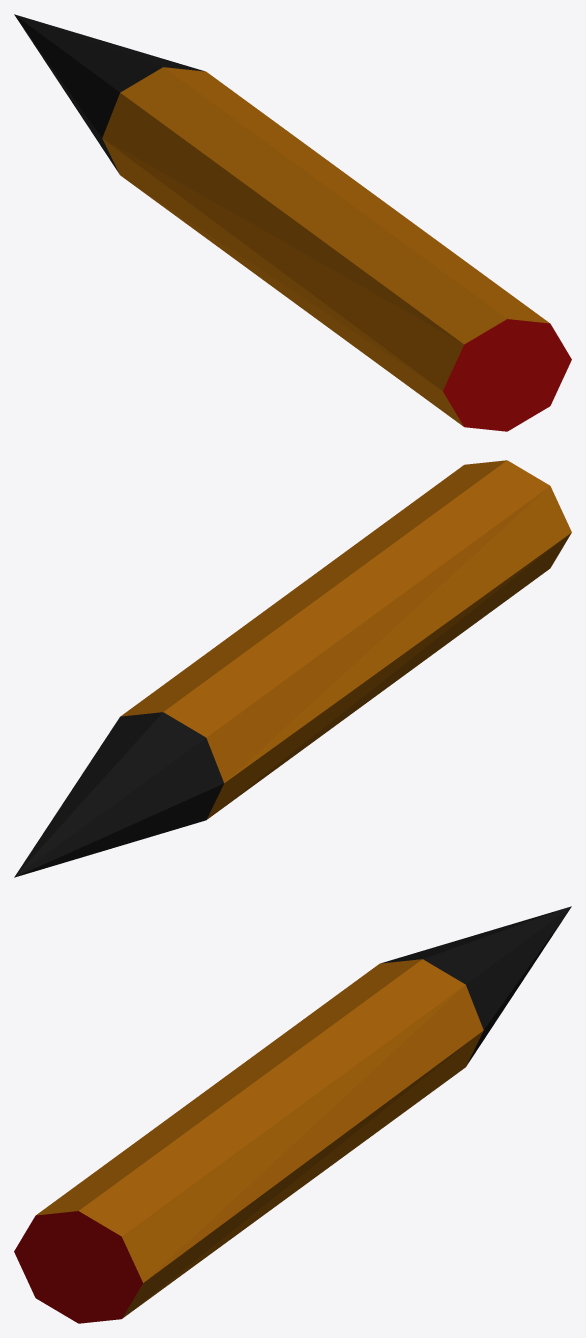
Rendered from rocket.glb.
3 views of the same model, one above another, from view 1: azimuth 30°, elevation 25°; view 2: azimuth 150°, elevation 25°; view 3: azimuth 330°, elevation 25° (orthographic).
Parts seen in each view (by area): view 1: Mesh_0; view 2: Mesh_0; view 3: Mesh_0.
Part boxes in pixels (x1,y1,x2,y2): Mesh_0: (14,14,571,431); Mesh_0: (14,460,571,877); Mesh_0: (14,906,571,1323).
Bounding box in the file's own units: 0.338 × 0.2817 × 2.23.
